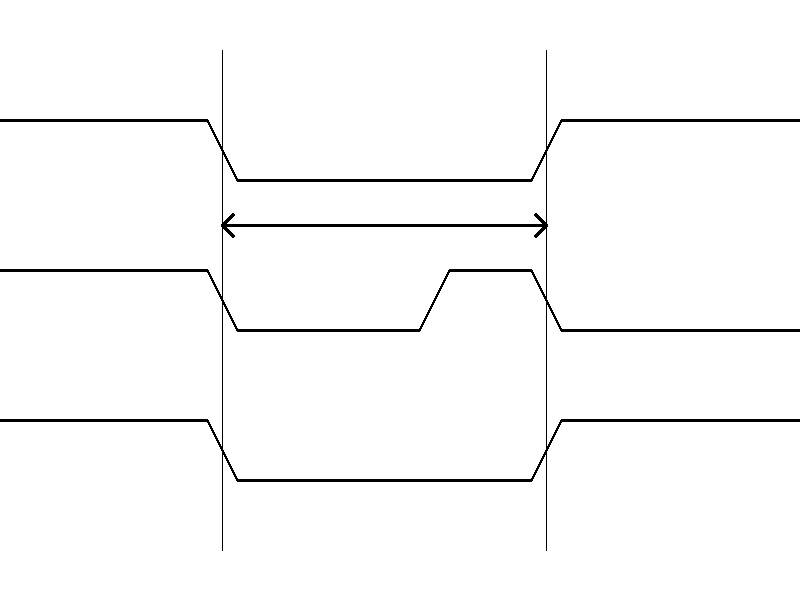double_arrow: (222, 210, 546, 240)
